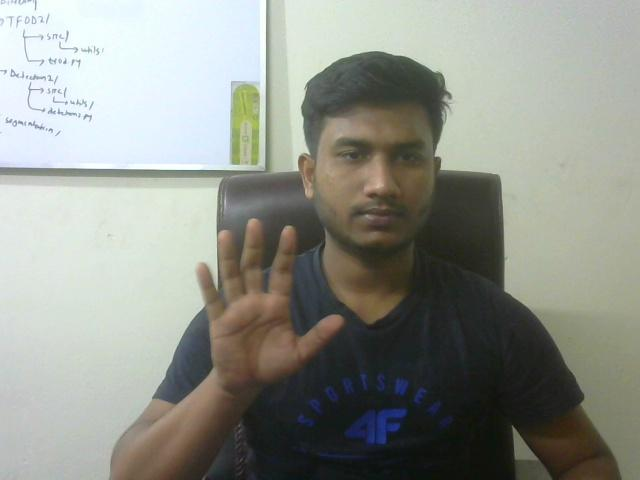Hello: (187, 204, 348, 404)
